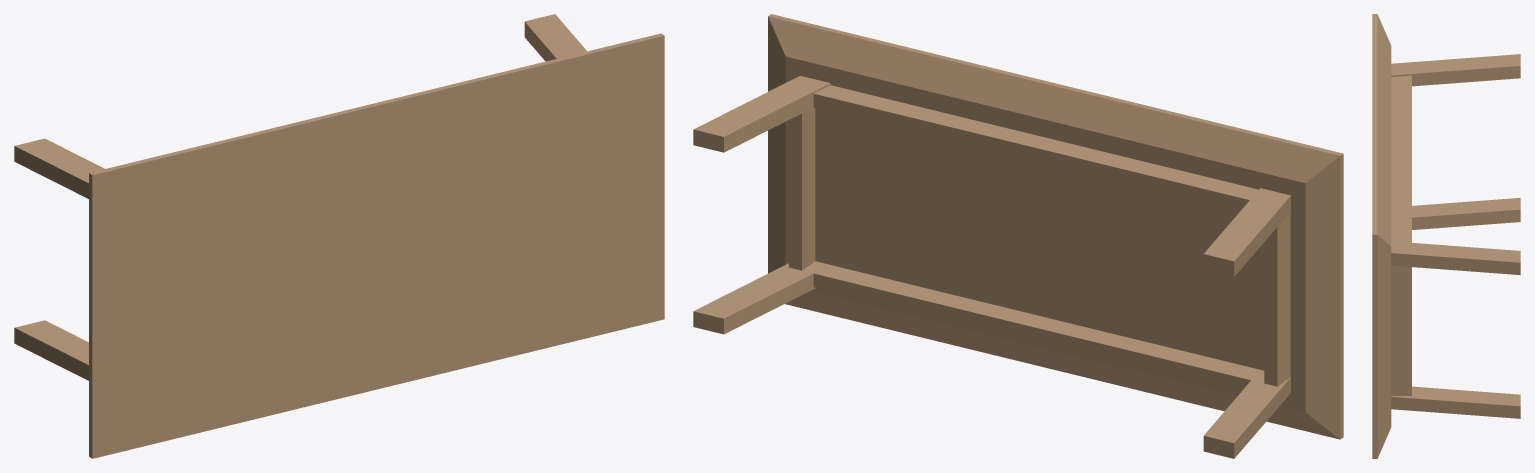
File: mcm-table.fbx
3 renders of one model, left to right at view 1: azimuth 30°, elevation 25°; view 2: azimuth 150°, elevation 25°; view 3: azimuth 270°, elevation 25°, orthographic. The views are drawn at different scales.
Parts seen in each view (by area): view 1: Body1 (×4); view 2: Body1 (×9); view 3: Body1 (×7).
Boxes of the visible parts, <box> form: Body1 (×4): <box>14,14,664,458</box>; Body1 (×9): <box>693,14,1343,458</box>; Body1 (×7): <box>1372,14,1520,458</box>.
Bounding box in the file's own units: 38 × 18 × 10.78.
